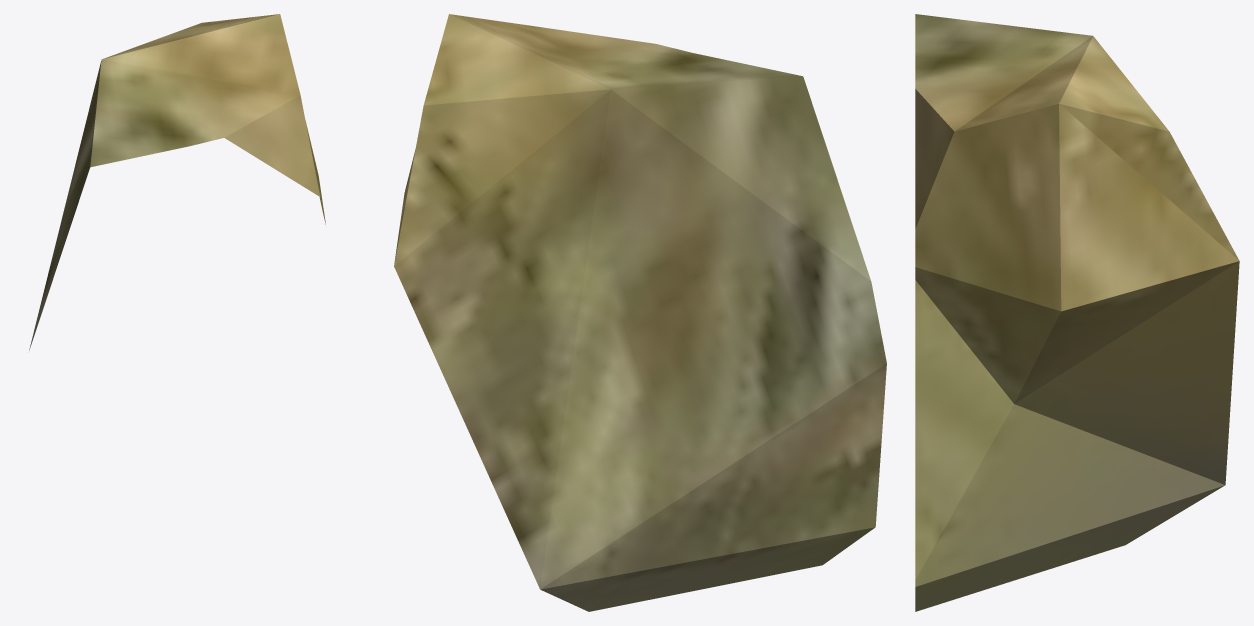
The picture shows the model from 3 angles, left to right: view 1: azimuth 30°, elevation 25°; view 2: azimuth 150°, elevation 25°; view 3: azimuth 270°, elevation 25°; orthographic projection. The views are drawn at different scales.
Bounding box in the file's own units: 0.454 × 0.5637 × 0.3154.
1 material, 1 textured.
